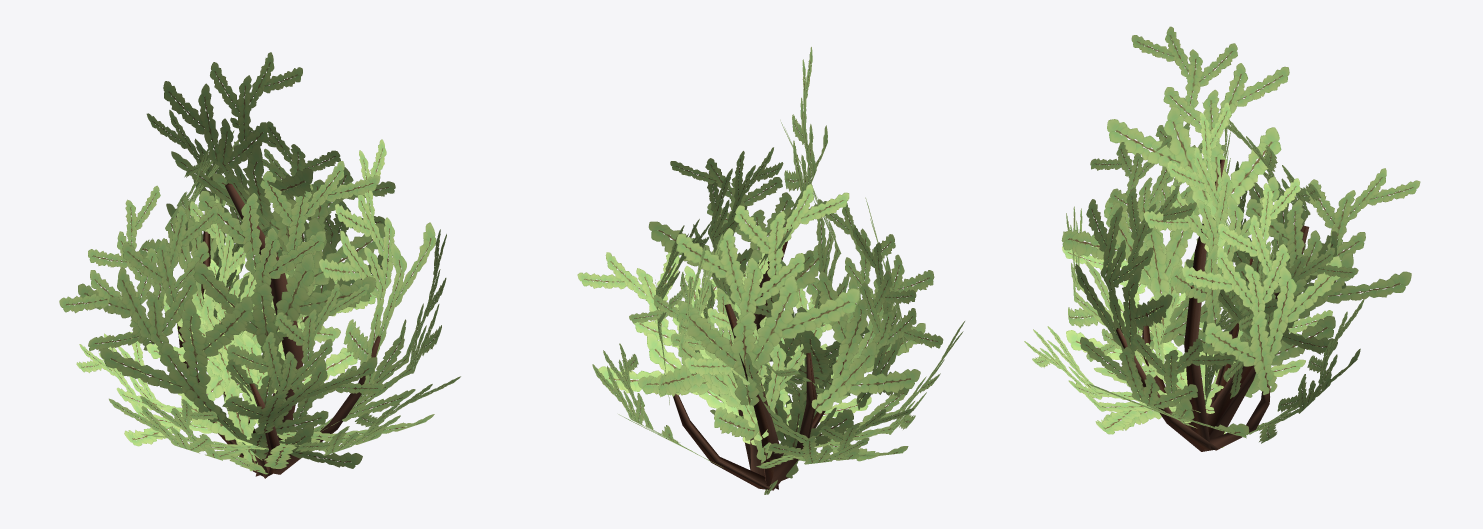
File: Bush2.fbx
3 views of the same model, side by side, from view 1: azimuth 30°, elevation 25°; view 2: azimuth 150°, elevation 25°; view 3: azimuth 270°, elevation 25° (orthographic). The views are drawn at different scales.
Visible parts, largest first — view 1: Plane.004, Plane.008; view 2: Plane.004, Plane.008; view 3: Plane.004, Plane.008.
Boxes of the visible parts, <box> form: Plane.004: <box>59,52,460,474</box>; Plane.008: <box>177,183,380,478</box>; Plane.004: <box>577,47,964,494</box>; Plane.008: <box>669,222,846,490</box>; Plane.004: <box>1024,26,1420,447</box>; Plane.008: <box>1116,159,1309,451</box>.
Size of the model in its own units: 149 by 157 by 143.
